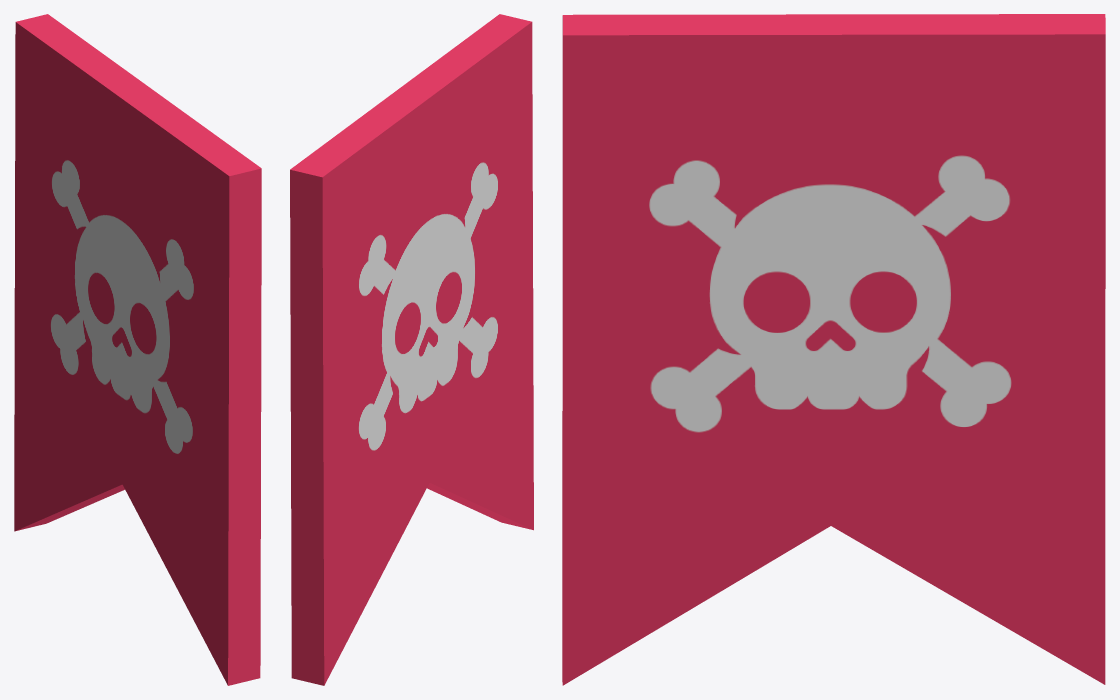
Rendered from Skull_flag.fbx.
3 views of the same model, side by side, from view 1: azimuth 30°, elevation 25°; view 2: azimuth 150°, elevation 25°; view 3: azimuth 270°, elevation 25° (orthographic). The views are drawn at different scales.
Parts seen in each view (by area): view 1: Cube.142; view 2: Cube.142; view 3: Cube.142.
Boxes of the visible parts, x1,y1,x2,y2 form: Cube.142: (14, 14, 261, 685); Cube.142: (290, 14, 533, 685); Cube.142: (562, 14, 1105, 685).
Size of the model in its own units: 25.06 by 339 by 256.
